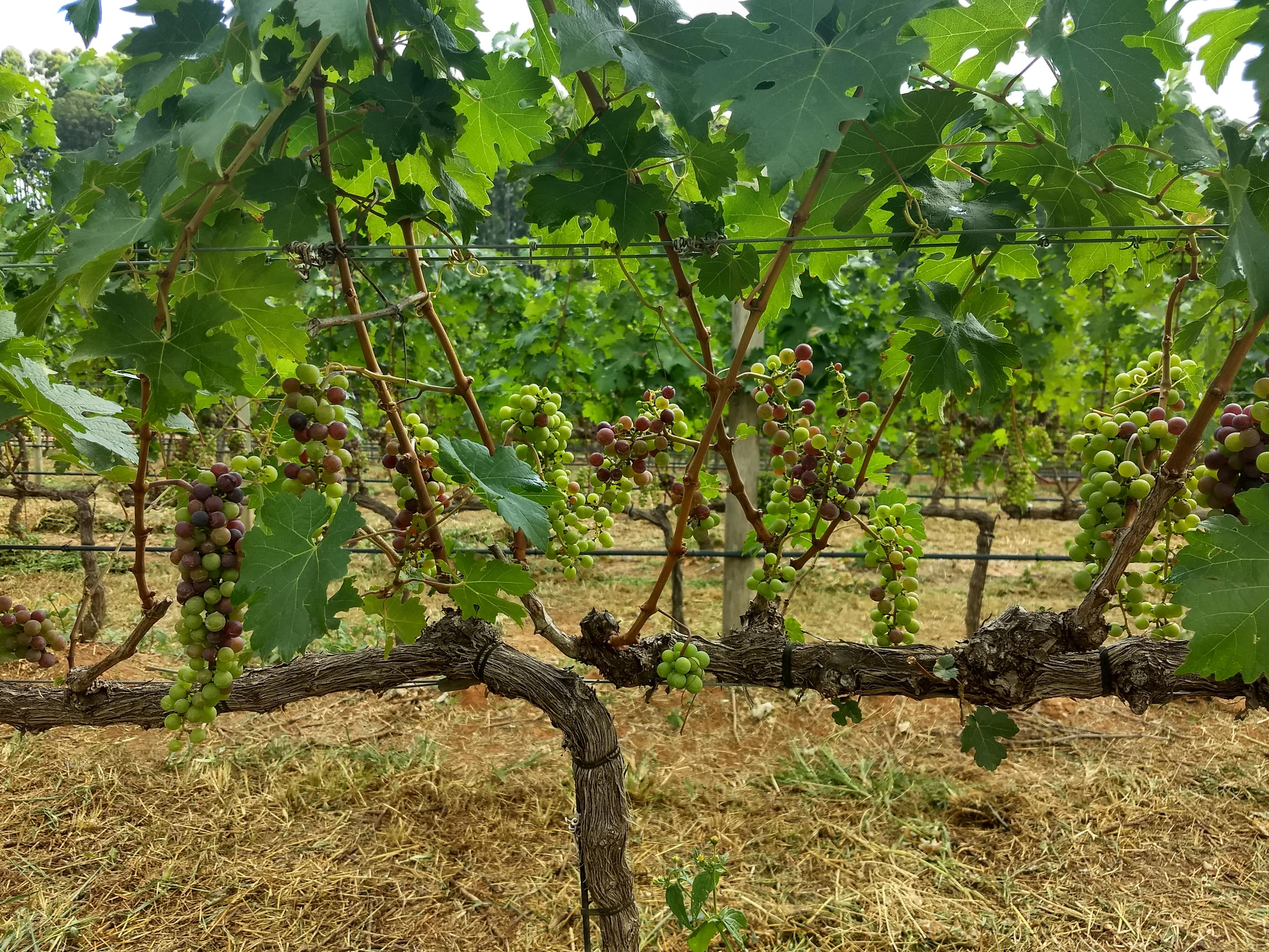leaf: (695, 0, 937, 185), (512, 102, 678, 246), (550, 0, 724, 133), (68, 291, 243, 420), (1029, 0, 1165, 163), (232, 491, 364, 658), (832, 89, 973, 231), (1170, 487, 1268, 682), (0, 342, 137, 471), (434, 435, 562, 549), (903, 282, 1020, 399), (456, 53, 551, 178), (906, 167, 1030, 256), (353, 57, 458, 161), (913, 0, 1041, 85), (180, 69, 278, 173), (57, 185, 161, 279), (244, 157, 335, 244), (1187, 6, 1260, 89), (448, 552, 534, 622), (294, 0, 369, 50), (961, 705, 1018, 770), (1163, 110, 1220, 173), (362, 589, 427, 644), (697, 243, 760, 298), (881, 192, 918, 253), (62, 0, 101, 46), (830, 697, 861, 727), (477, 444, 478, 445)
